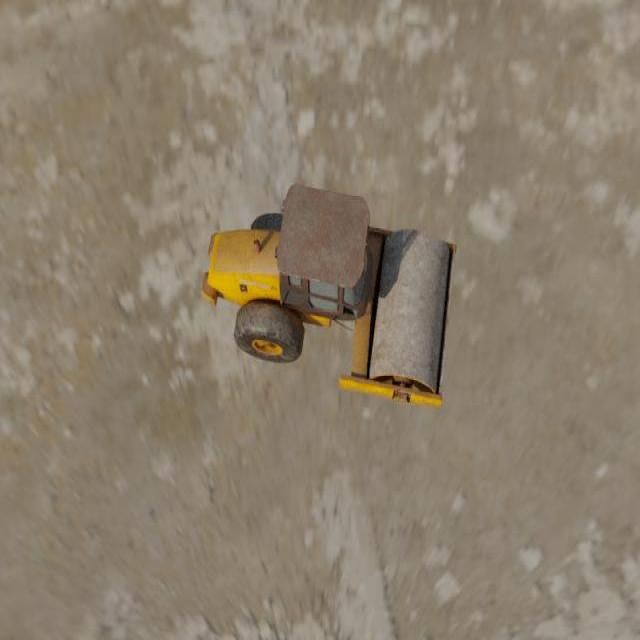Roller: (201, 183, 457, 408)
